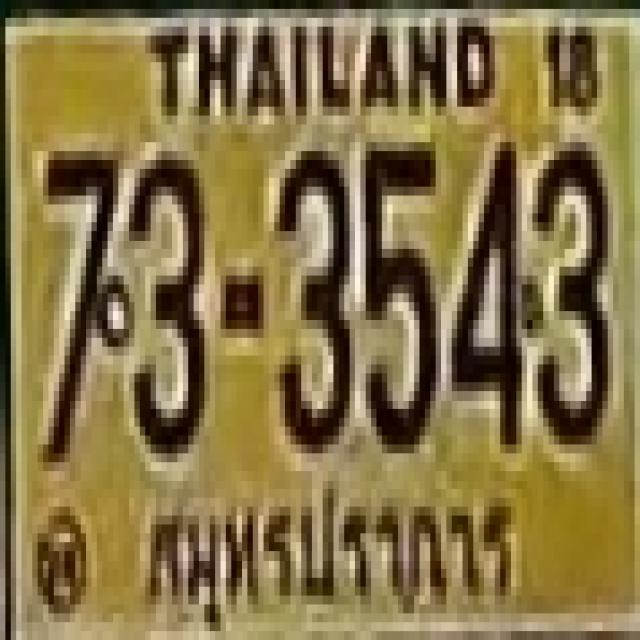3: (126, 147, 202, 449), (274, 143, 350, 444), (530, 138, 605, 431)
4: (446, 133, 522, 444)
5: (360, 143, 436, 444)
7: (43, 146, 118, 458), (43, 142, 118, 356)
SPK: (133, 474, 536, 628)
